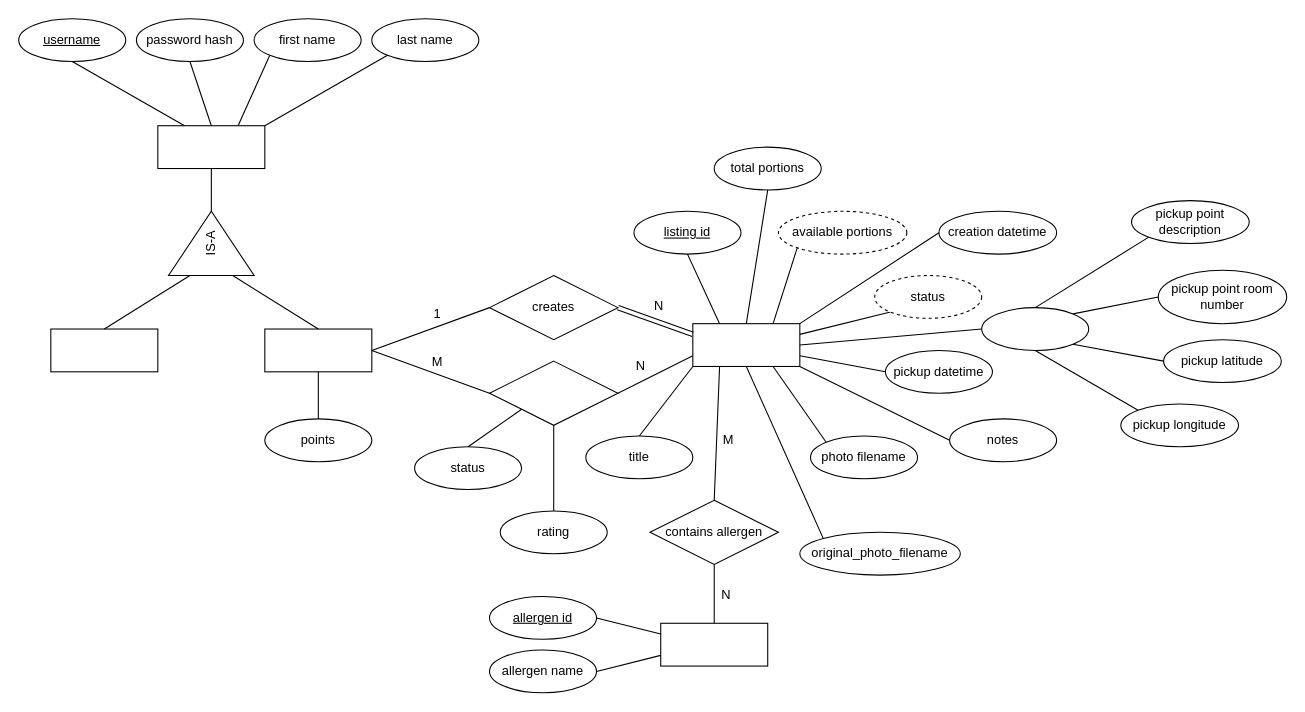
Some shapes in this 1305 by 712 pixel diagram are drawn without their labels. The box of each missing label's shape, as (x1, y1, x2, y2) in pixels:
admin: (50, 328, 158, 372)
allergen: (660, 622, 768, 666)
food listing: (692, 323, 800, 366)
pickup point: (981, 307, 1089, 350)
reserves portion: (488, 360, 618, 425)
student: (264, 328, 372, 372)
user: (157, 125, 265, 169)
